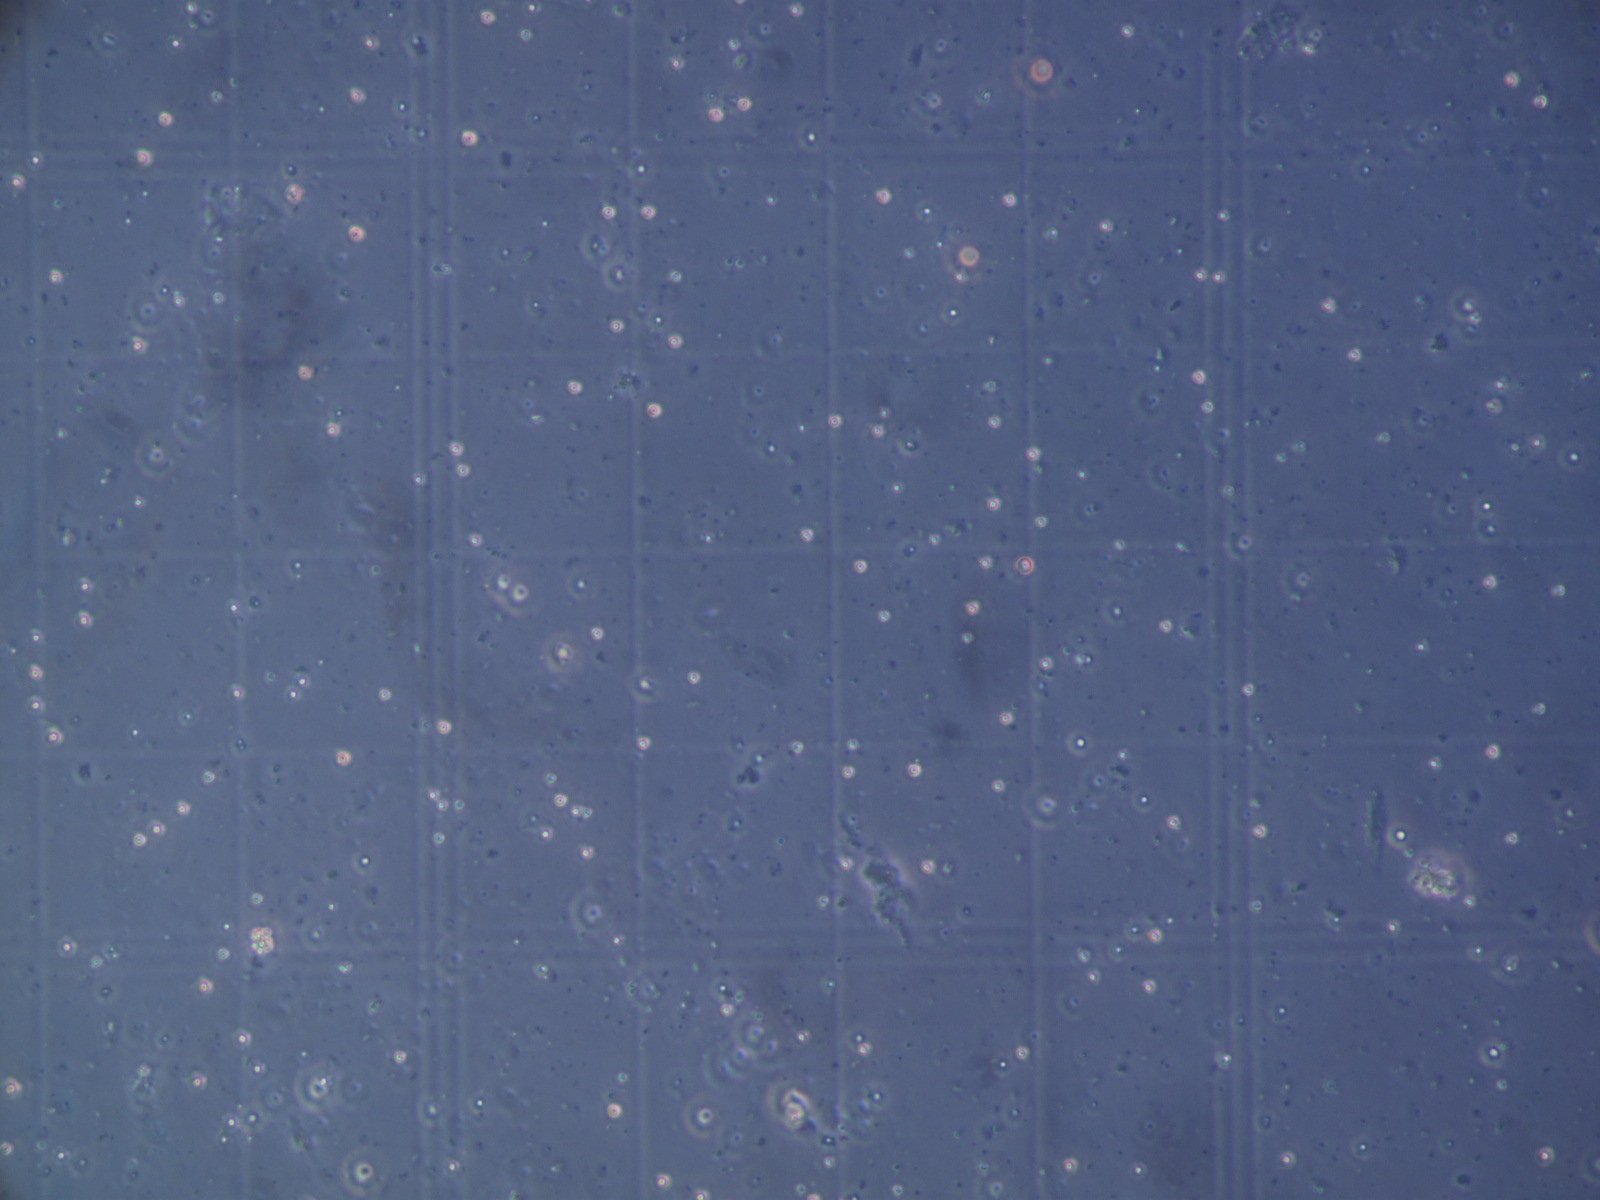virus: (506, 571, 546, 616), (627, 667, 666, 703), (483, 563, 517, 603), (237, 1100, 270, 1137), (794, 117, 825, 155), (417, 1089, 449, 1127), (602, 258, 634, 292), (1101, 595, 1133, 628), (755, 432, 786, 465), (1556, 442, 1590, 471), (1474, 516, 1507, 545), (566, 568, 595, 601), (862, 1082, 892, 1112), (465, 1088, 495, 1116), (1066, 729, 1094, 758), (1471, 493, 1499, 521), (844, 1024, 871, 1053), (746, 745, 775, 771), (940, 299, 968, 325), (1130, 787, 1157, 813), (283, 552, 310, 579), (1078, 648, 1104, 676), (708, 977, 736, 1002), (350, 846, 375, 874), (1351, 156, 1377, 182), (913, 199, 940, 224), (644, 306, 670, 332), (990, 1053, 1014, 1078), (630, 156, 653, 182), (1352, 1134, 1374, 1158), (184, 1070, 208, 1093), (391, 96, 413, 118), (1533, 1146, 1557, 1167), (1269, 1000, 1290, 1022), (55, 937, 78, 958), (25, 149, 47, 171), (278, 158, 300, 179), (1125, 918, 1144, 942), (553, 642, 572, 666), (1060, 1155, 1080, 1176), (155, 279, 175, 300), (1409, 637, 1431, 655), (117, 209, 137, 229), (520, 1, 542, 20), (1277, 1148, 1296, 1168), (1128, 1161, 1148, 1180), (283, 684, 304, 703), (1528, 434, 1547, 453), (247, 1059, 266, 1078), (820, 974, 838, 995), (125, 724, 145, 741), (292, 673, 312, 691), (1162, 911, 1179, 930), (535, 214, 553, 233), (283, 184, 301, 202), (166, 35, 185, 52), (1327, 913, 1344, 929), (1485, 397, 1502, 413), (1487, 1044, 1502, 1061), (28, 630, 44, 645), (9, 174, 24, 190), (1216, 1053, 1233, 1066), (1013, 1045, 1028, 1060), (1471, 942, 1487, 957), (1504, 831, 1519, 846), (1552, 582, 1567, 597), (609, 933, 624, 948), (443, 1158, 459, 1174), (873, 189, 889, 203), (528, 297, 544, 311), (215, 1133, 231, 1147), (129, 338, 144, 352), (362, 37, 377, 50), (1322, 297, 1334, 314), (1141, 981, 1155, 995), (1077, 949, 1091, 963), (1533, 95, 1547, 108), (1191, 371, 1204, 384), (224, 1116, 238, 1129), (539, 827, 553, 841), (76, 613, 89, 626), (77, 580, 91, 594), (449, 442, 462, 456), (48, 270, 62, 284), (581, 846, 593, 861), (1487, 745, 1498, 761), (1497, 1076, 1509, 1090), (1395, 829, 1407, 843), (1254, 824, 1266, 838), (1427, 758, 1440, 771), (1482, 575, 1495, 587), (1469, 313, 1482, 326), (1504, 72, 1517, 86), (1300, 43, 1314, 55), (1201, 401, 1214, 413), (217, 947, 229, 961), (249, 892, 263, 905), (202, 770, 215, 783), (469, 533, 481, 547), (47, 731, 60, 744), (28, 700, 42, 712), (226, 601, 239, 614), (708, 108, 722, 121), (132, 833, 147, 845), (1386, 921, 1398, 934), (1038, 658, 1051, 671), (655, 1175, 668, 1187), (4, 1083, 16, 1095), (432, 831, 445, 843), (426, 788, 438, 800), (590, 628, 602, 640), (136, 153, 149, 165), (641, 205, 654, 218), (1464, 894, 1475, 908), (1534, 703, 1546, 717), (1347, 350, 1361, 362), (1047, 226, 1058, 239), (988, 417, 1002, 429), (236, 1032, 247, 1046), (546, 771, 557, 785), (335, 753, 349, 764), (464, 131, 475, 145), (1167, 817, 1179, 828), (1116, 749, 1128, 761), (1000, 712, 1012, 725), (1242, 683, 1254, 696), (1493, 379, 1506, 391), (1002, 194, 1014, 205), (954, 271, 965, 284), (795, 1031, 808, 1042), (197, 982, 208, 995), (132, 495, 144, 508), (412, 474, 425, 485), (326, 424, 338, 436), (648, 405, 660, 416), (435, 800, 449, 811), (377, 689, 391, 700), (1087, 971, 1099, 982), (991, 780, 1003, 792), (854, 561, 866, 572), (1225, 484, 1236, 495), (842, 766, 853, 778), (921, 862, 932, 874), (823, 1157, 834, 1168), (607, 1105, 619, 1117), (554, 794, 566, 805), (176, 804, 188, 816), (437, 721, 449, 732), (159, 113, 170, 125), (350, 228, 362, 239), (568, 382, 580, 393), (670, 271, 682, 282), (738, 100, 750, 111), (1151, 930, 1162, 943), (1160, 620, 1170, 633), (1461, 303, 1474, 313), (1217, 211, 1230, 221), (569, 805, 580, 818), (457, 464, 467, 476), (300, 367, 310, 379), (1121, 26, 1133, 37), (966, 603, 976, 614), (963, 633, 973, 644), (688, 672, 698, 683), (636, 739, 648, 749), (394, 1051, 404, 1063), (1, 1143, 11, 1155), (151, 824, 163, 834), (670, 337, 680, 348), (603, 205, 614, 217), (350, 89, 360, 101), (481, 13, 491, 24), (872, 425, 882, 435), (829, 417, 839, 427), (892, 483, 902, 493), (988, 499, 998, 509), (1026, 449, 1036, 459), (879, 611, 889, 621), (1077, 470, 1087, 480), (848, 740, 858, 750), (611, 321, 621, 332), (213, 292, 223, 303), (186, 3, 197, 13), (1512, 441, 1521, 453), (803, 531, 811, 542), (858, 1044, 867, 1055), (583, 808, 592, 819), (31, 668, 40, 679), (808, 1192, 820, 1200), (1036, 517, 1044, 527), (930, 534, 939, 545), (792, 742, 803, 751), (840, 860, 850, 868), (721, 1005, 729, 1015), (232, 689, 241, 700), (694, 1192, 706, 1200), (55, 1151, 67, 1158), (910, 765, 918, 774), (671, 59, 680, 68), (1077, 654, 1085, 664), (791, 6, 799, 16), (1196, 271, 1204, 279), (1101, 222, 1109, 231), (981, 558, 989, 567), (175, 297, 184, 305), (1214, 274, 1221, 281)
